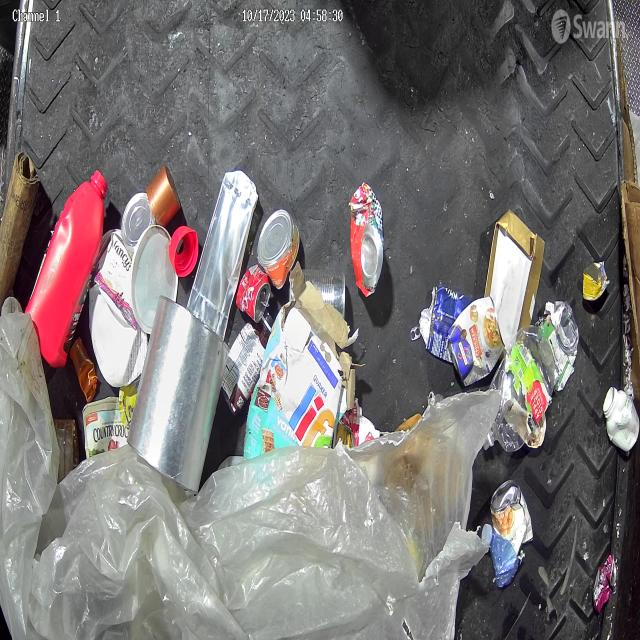can: (447, 293, 506, 390), (536, 297, 579, 395), (348, 181, 384, 298), (256, 208, 300, 290), (489, 478, 534, 557), (289, 266, 346, 320), (235, 264, 272, 324), (592, 551, 617, 613)
non_white_jug: (24, 171, 108, 370)
